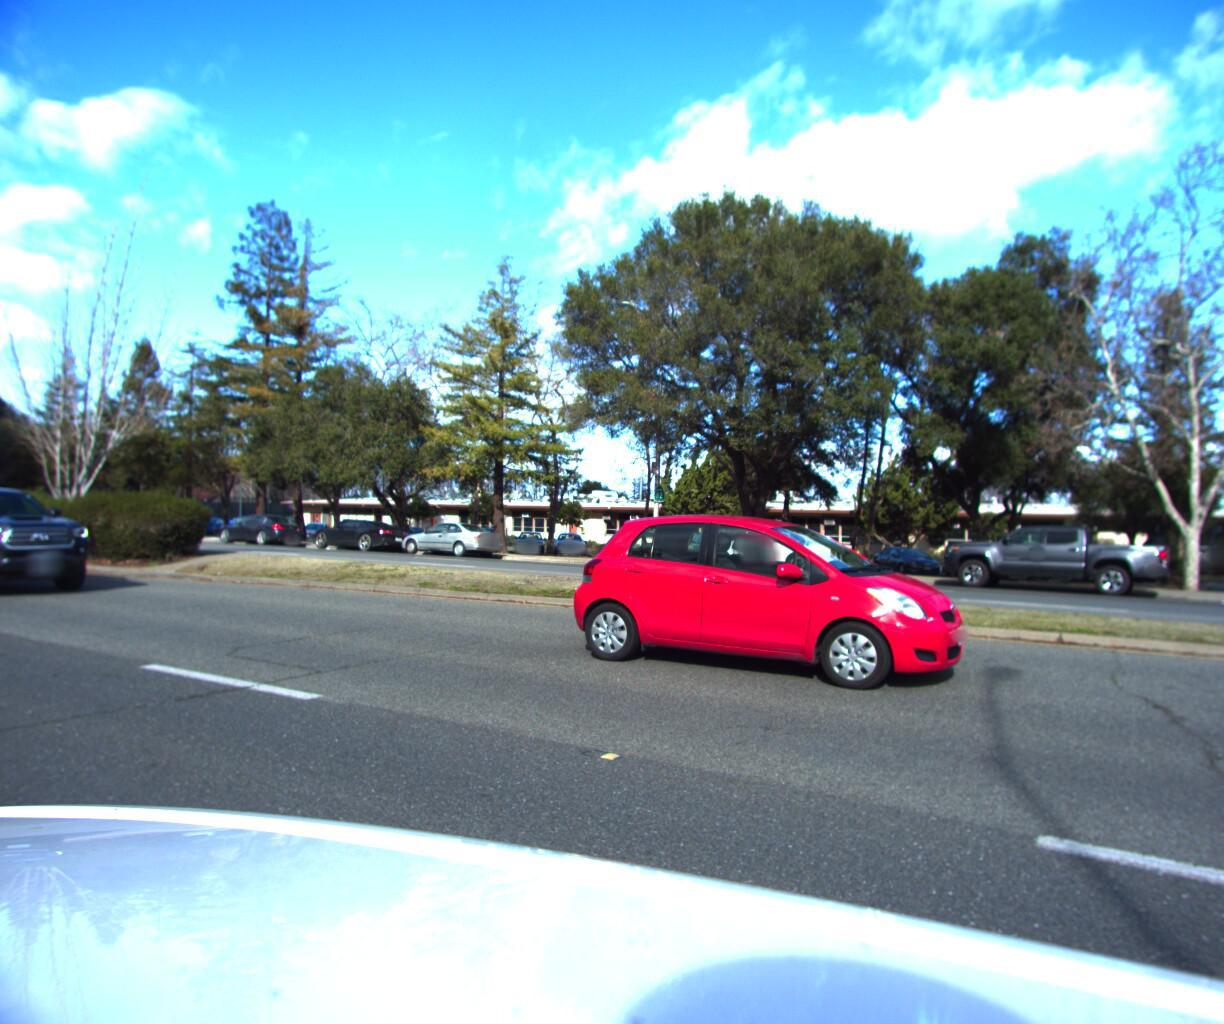car: (561, 506, 974, 703), (932, 516, 1174, 606), (0, 485, 110, 607), (695, 517, 860, 587), (304, 508, 416, 558), (397, 516, 508, 564), (211, 508, 311, 552)
